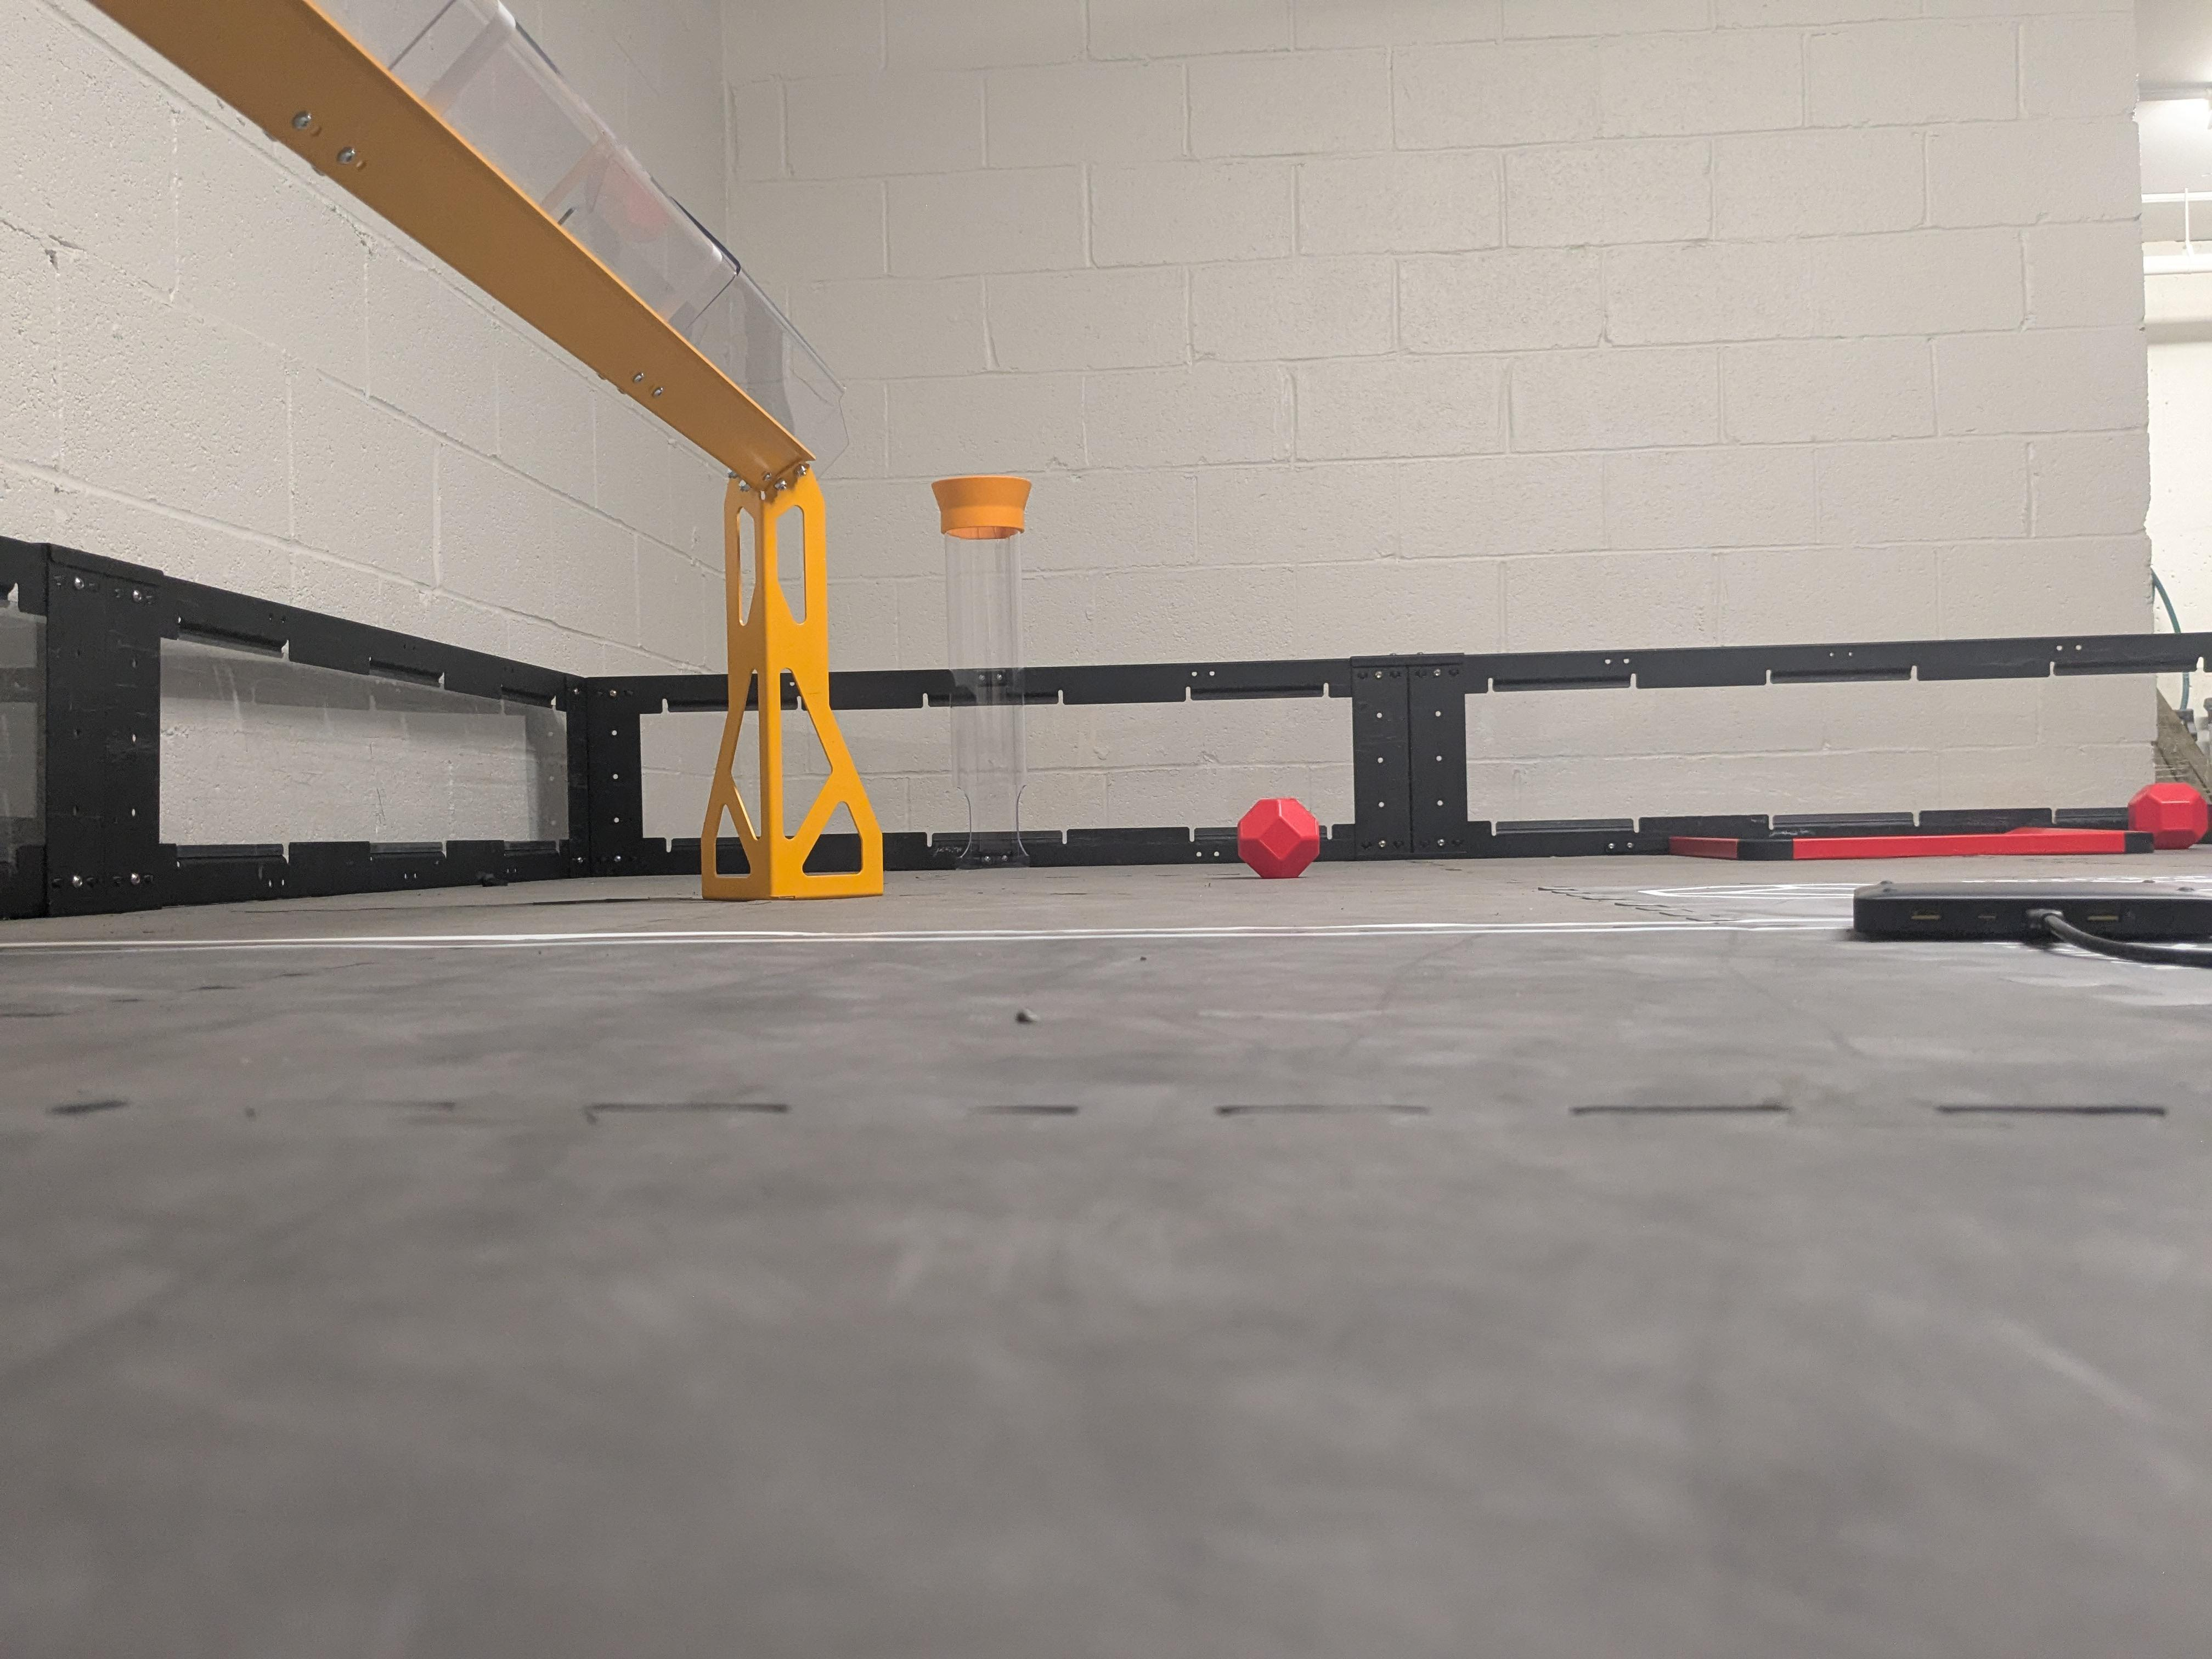Vex-Pieces-RED: (1237, 798, 1320, 878), (2128, 782, 2207, 850)
